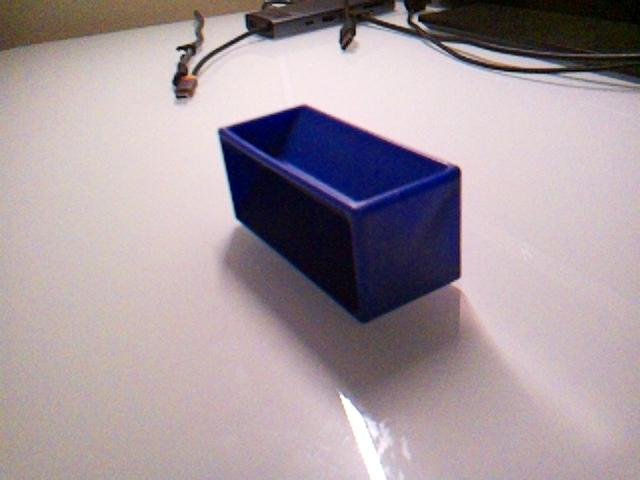blue: (216, 101, 465, 324)
